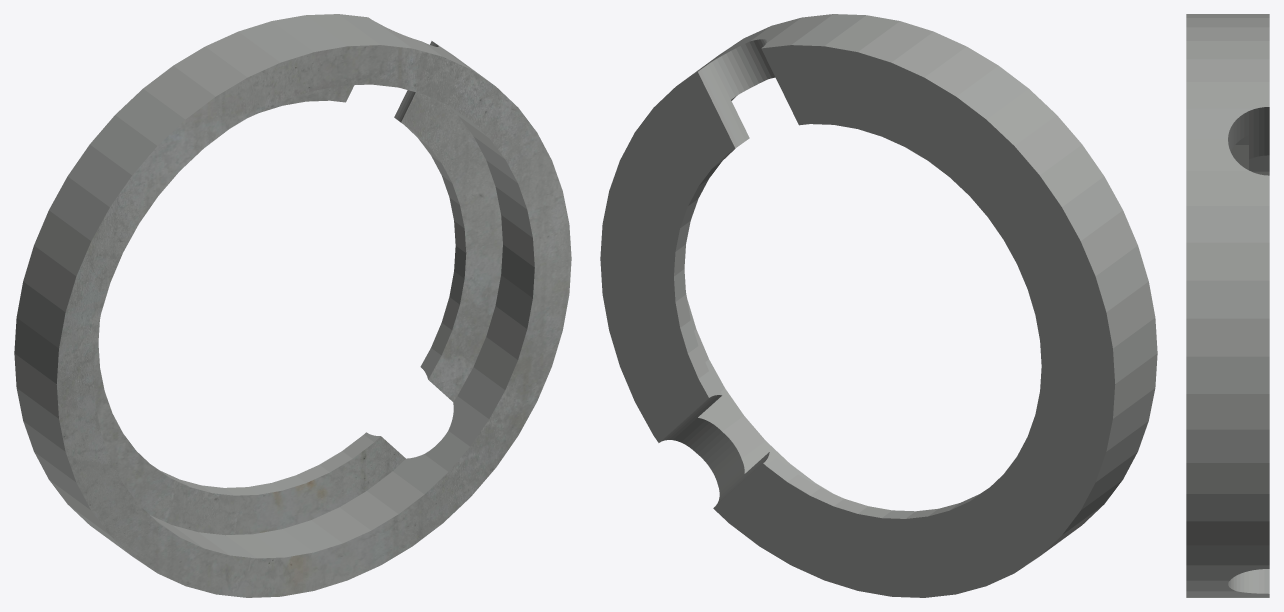
The model's file is pool_020.obj.
3 views of the same model, side by side, from view 1: azimuth 30°, elevation 25°; view 2: azimuth 150°, elevation 25°; view 3: azimuth 270°, elevation 25° (orthographic).
Bounding box in the file's own units: 14 × 14 × 2.
